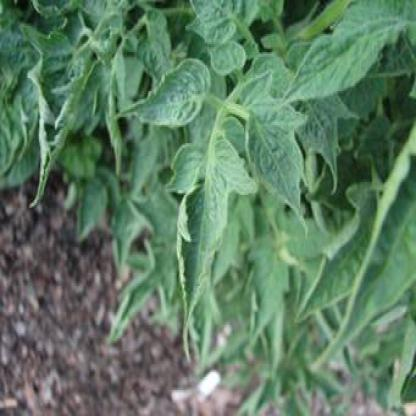tomato leaf mosaic virus: (170, 127, 250, 340), (283, 3, 407, 102), (235, 93, 317, 232), (115, 54, 212, 133), (206, 41, 248, 72)
